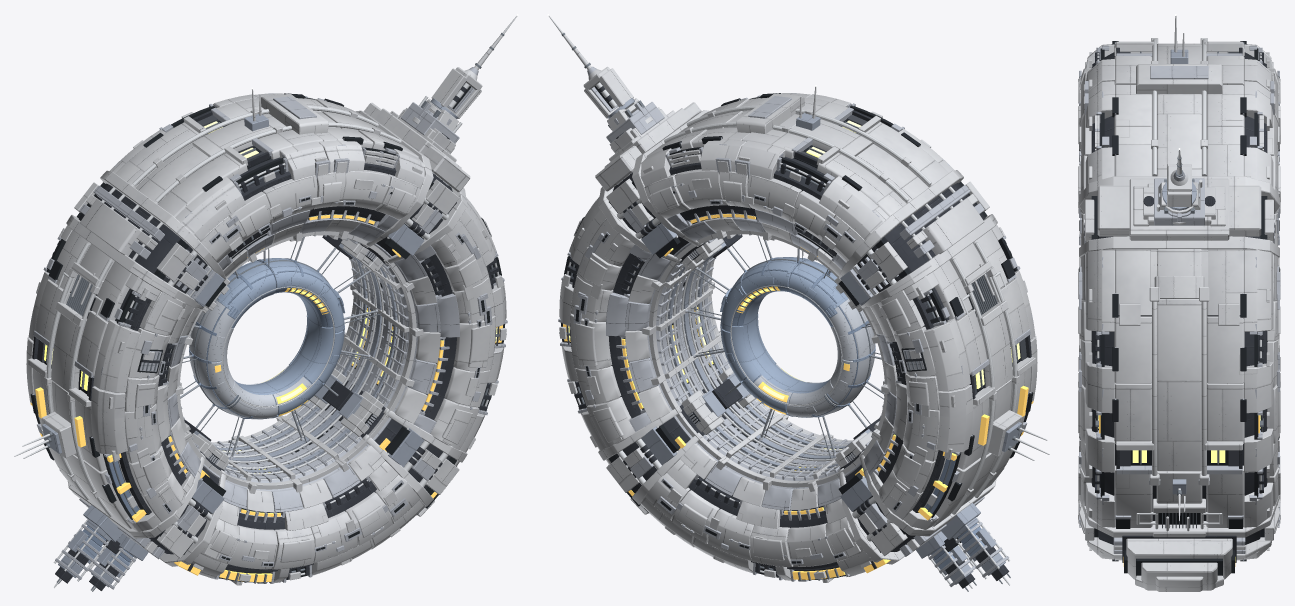
The model's file is orbital_station.glb.
The picture shows the model from 3 angles, left to right: view 1: azimuth 30°, elevation 25°; view 2: azimuth 150°, elevation 25°; view 3: azimuth 270°, elevation 25°; orthographic projection. The views are drawn at different scales.
Visible parts, largest first — view 1: Armor_Quad_Left__armor_white, Armor_Quad_Top__armor_white, Armor_Quad_Bot__armor_white, Armor_Quad_Right__armor_white, Core_InternalBacking__gunmetal, Armor_Quad_Left__armor_bright, Machinery_135__armor_bright, Armor_Quad_Top__armor_bright, Rim_QuadrantRails__alloy_pipe, InnerWall_PipeBundles__alloy_pipe, InnerWall_RingDecks__armor_white, InnerWall_PrimaryHull__inner_grey (+54 smaller); view 2: Armor_Quad_Left__armor_white, Armor_Quad_Top__armor_white, Armor_Quad_Bot__armor_white, Armor_Quad_Right__armor_white, Core_InternalBacking__gunmetal, Armor_Quad_Left__armor_bright, Machinery_135__armor_bright, Armor_Quad_Top__armor_bright, Rim_QuadrantRails__alloy_pipe, InnerWall_PipeBundles__alloy_pipe, InnerWall_RingDecks__armor_white, InnerWall_PrimaryHull__inner_grey (+53 smaller); view 3: Armor_Quad_Right__armor_white, Armor_Quad_Top__armor_white, Armor_Quad_Right__armor_bright, Hero_SpireBase__armor_bright, SpireCollar_45__armor_bright, Armor_Quad_Top__armor_bright, Core_InternalBacking__gunmetal, Rim_HeroTwinRails__armor_bright, PodCollar_315__armor_bright, Hero_BlisterPod__armor_white, Hero_BlisterPod__armor_bright, Hero_CrownModules__armor_bright (+34 smaller).
Boxes of the visible parts, bbox=[...] form: Armor_Quad_Left__armor_white: bbox=[26, 225, 200, 532]; Armor_Quad_Top__armor_white: bbox=[110, 93, 424, 277]; Armor_Quad_Bot__armor_white: bbox=[191, 445, 424, 583]; Armor_Quad_Right__armor_white: bbox=[394, 197, 506, 452]; Core_InternalBacking__gunmetal: bbox=[70, 145, 496, 572]; Armor_Quad_Left__armor_bright: bbox=[51, 244, 171, 508]; Machinery_135__armor_bright: bbox=[66, 170, 229, 313]; Armor_Quad_Top__armor_bright: bbox=[192, 111, 390, 241]; Rim_QuadrantRails__alloy_pipe: bbox=[46, 106, 401, 516]; InnerWall_PipeBundles__alloy_pipe: bbox=[198, 239, 406, 479]; InnerWall_RingDecks__armor_white: bbox=[177, 231, 416, 489]; InnerWall_PrimaryHull__inner_grey: bbox=[195, 235, 417, 491]; Armor_Quad_Left__armor_white: bbox=[863, 224, 1037, 529]; Armor_Quad_Top__armor_white: bbox=[640, 93, 954, 276]; Armor_Quad_Bot__armor_white: bbox=[640, 443, 872, 580]; Armor_Quad_Right__armor_white: bbox=[559, 196, 670, 450]; Core_InternalBacking__gunmetal: bbox=[569, 145, 993, 570]; Armor_Quad_Left__armor_bright: bbox=[892, 243, 1012, 506]; Machinery_135__armor_bright: bbox=[835, 170, 997, 311]; Armor_Quad_Top__armor_bright: bbox=[674, 111, 872, 240]; Rim_QuadrantRails__alloy_pipe: bbox=[664, 105, 1017, 514]; InnerWall_PipeBundles__alloy_pipe: bbox=[659, 239, 850, 478]; InnerWall_RingDecks__armor_white: bbox=[649, 230, 887, 487]; InnerWall_PrimaryHull__inner_grey: bbox=[647, 233, 870, 489]; Armor_Quad_Right__armor_white: bbox=[1078, 249, 1280, 527]; Armor_Quad_Top__armor_white: bbox=[1078, 43, 1280, 201]; Armor_Quad_Right__armor_bright: bbox=[1078, 299, 1280, 503]; Hero_SpireBase__armor_bright: bbox=[1097, 178, 1261, 240]; SpireCollar_45__armor_bright: bbox=[1079, 176, 1279, 258]; Armor_Quad_Top__armor_bright: bbox=[1078, 44, 1280, 176]; Core_InternalBacking__gunmetal: bbox=[1091, 52, 1267, 520]; Rim_HeroTwinRails__armor_bright: bbox=[1149, 276, 1209, 485]; PodCollar_315__armor_bright: bbox=[1079, 495, 1279, 558]; Hero_BlisterPod__armor_white: bbox=[1126, 538, 1232, 579]; Hero_BlisterPod__armor_bright: bbox=[1135, 562, 1223, 591]; Hero_CrownModules__armor_bright: bbox=[1136, 64, 1222, 94].
Bounding box in the file's own units: 24.54 × 23.62 × 7.85.
16 materials, 8 textured.
